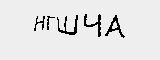Л: (81, 30, 107, 50)
П: (52, 29, 81, 49)
Р: (107, 29, 124, 47)
Т: (122, 25, 139, 42)
Ч: (19, 23, 37, 45)
Ғ: (36, 26, 51, 44)
